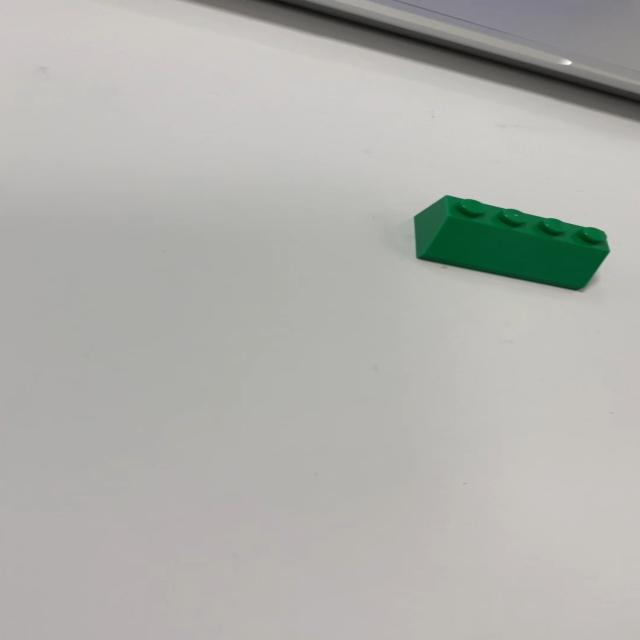P4x2x1: (412, 192, 610, 290)
